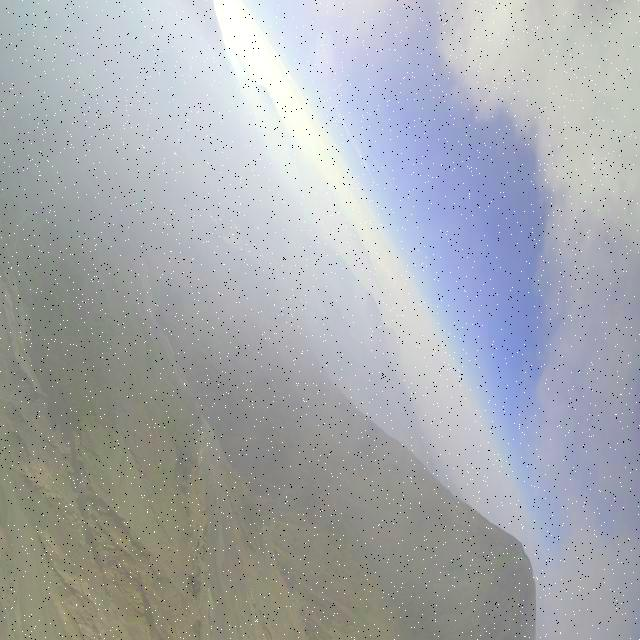Plume: (431, 0, 640, 528)
